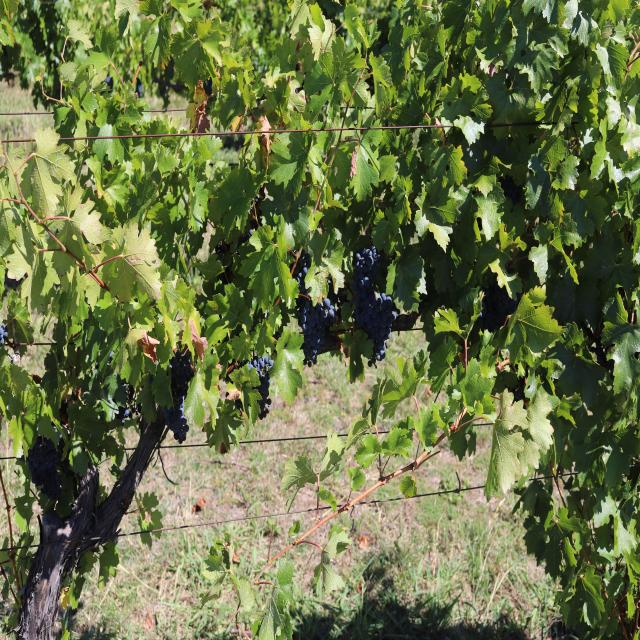grapes: (352, 246, 396, 366), (293, 251, 337, 366), (161, 351, 194, 444), (26, 436, 61, 498), (477, 284, 519, 332), (247, 355, 273, 419), (0, 323, 8, 347)
